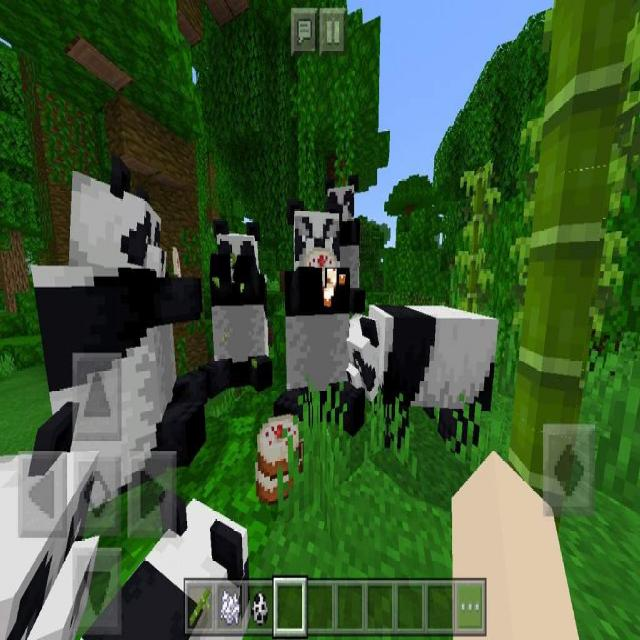Panda: (28, 154, 208, 498), (75, 490, 255, 640), (346, 298, 502, 458), (0, 398, 102, 640), (274, 192, 369, 440), (198, 211, 278, 398), (322, 168, 365, 302)
